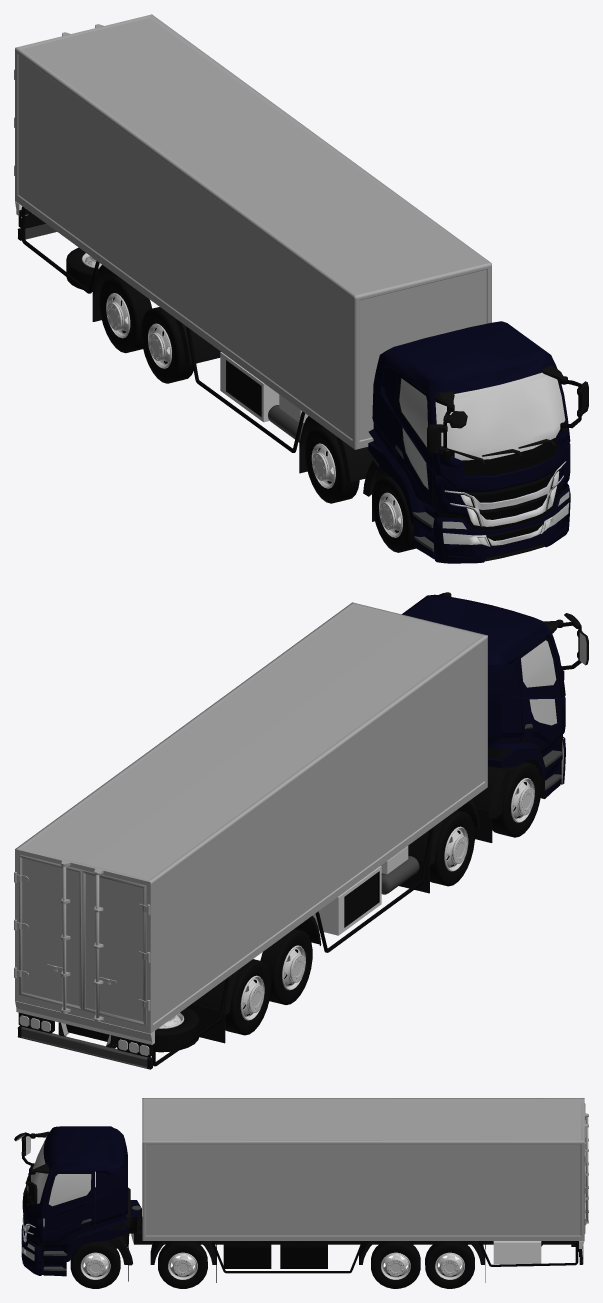
File: transpor logistique.fbx
3 views of the same model, one above another, from view 1: azimuth 30°, elevation 25°; view 2: azimuth 150°, elevation 25°; view 3: azimuth 270°, elevation 25° (orthographic). The views are drawn at different scales.
Visible parts, largest first — view 1: Truck_body_Truck_body.L.002, Truck_head_Truck_head.L.002, wheels_Circle.229, wheels_Circle.227, wheels_Circle.225, wheels_Circle.033; view 2: Truck_body_Truck_body.L.002, Truck_head_Truck_head.L.002, wheels_Circle.227, wheels_Circle.229, wheels_Circle.033, wheels_Circle.225; view 3: Truck_body_Truck_body.L.002, Truck_head_Truck_head.L.002, wheels_Circle.226, wheels_Circle.230, wheels_Circle.228, wheels_Circle.036.
Boxes of the visible parts, box(x1,y1,x2,y2) form: Truck_body_Truck_body.L.002: box(14, 14, 491, 482); Truck_head_Truck_head.L.002: box(363, 321, 588, 563); wheels_Circle.229: box(99, 276, 152, 353); wheels_Circle.227: box(141, 307, 193, 383); wheels_Circle.225: box(305, 426, 359, 503); wheels_Circle.033: box(372, 476, 415, 552); Truck_body_Truck_body.L.002: box(14, 602, 487, 1069); Truck_head_Truck_head.L.002: box(402, 592, 588, 842); wheels_Circle.227: box(260, 929, 312, 1004); wheels_Circle.229: box(225, 959, 271, 1035); wheels_Circle.033: box(492, 761, 541, 837); wheels_Circle.225: box(430, 810, 474, 886); Truck_body_Truck_body.L.002: box(131, 1098, 588, 1282); Truck_head_Truck_head.L.002: box(14, 1126, 141, 1281); wheels_Circle.226: box(158, 1241, 207, 1288); wheels_Circle.230: box(425, 1241, 474, 1288); wheels_Circle.228: box(371, 1241, 420, 1288); wheels_Circle.036: box(70, 1241, 120, 1288).
Bounding box in the file's own units: 2.4 × 11.07 × 3.14.
